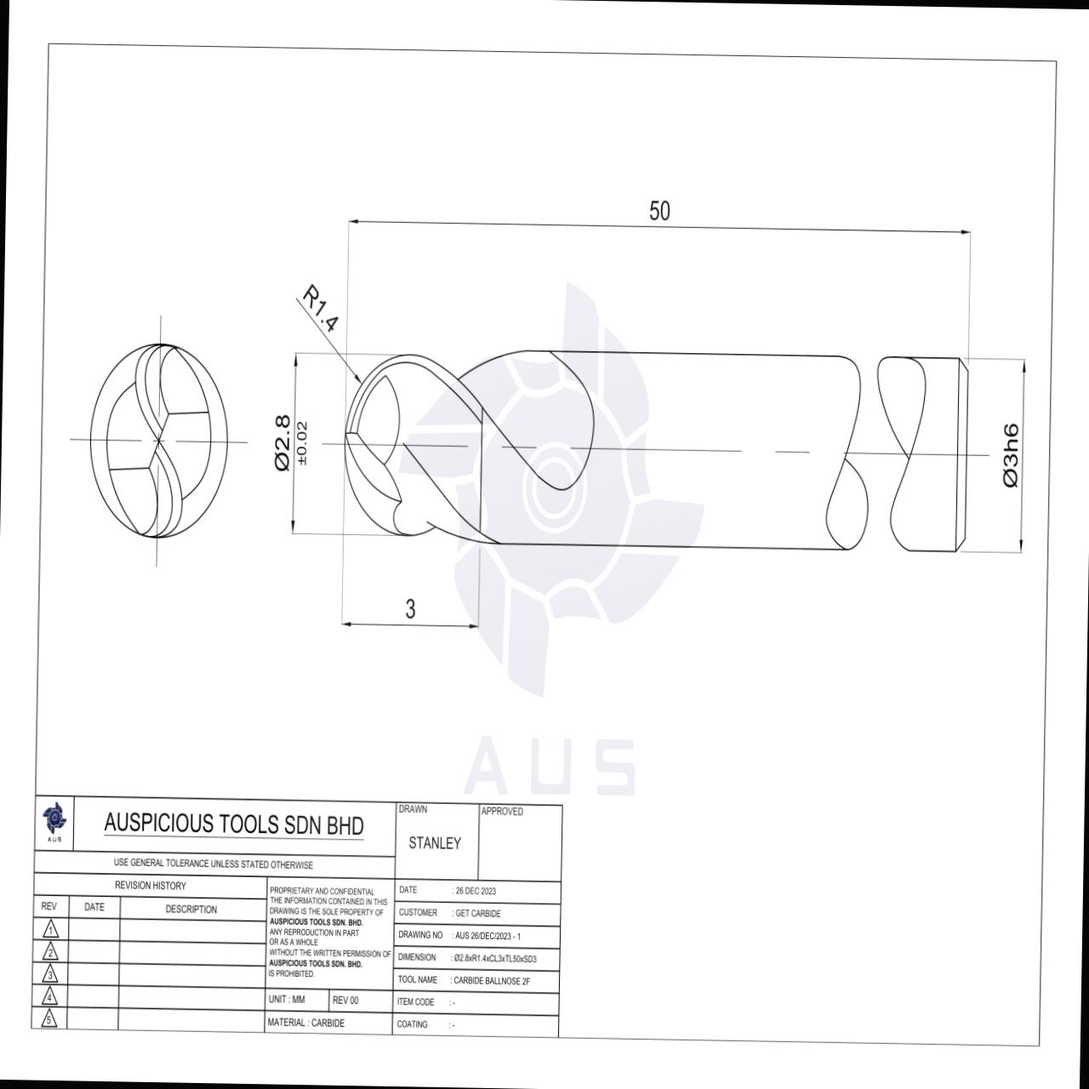basic_dimension: (649, 200, 670, 222), (406, 598, 416, 620)
dimension_diameter_symbol: (1000, 422, 1021, 491), (274, 415, 292, 474)
dimension_radius_symbol: (302, 283, 340, 335)
